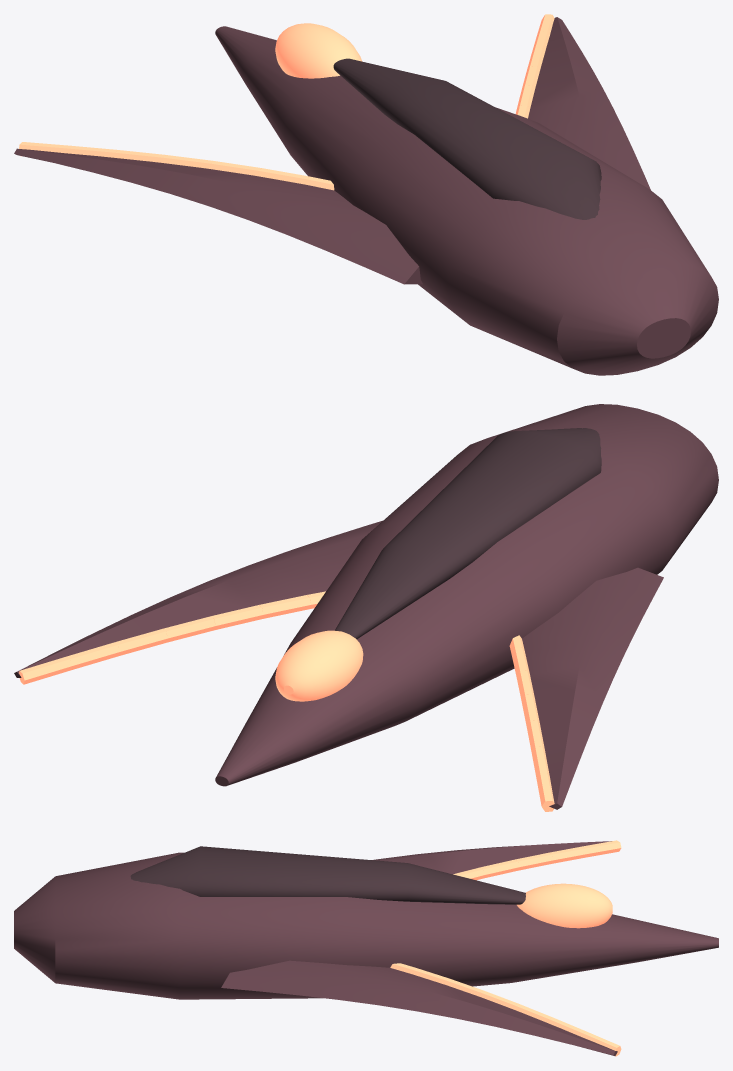
Rendered from alien_dron.gltf.
The picture shows the model from 3 angles, top to bottom: view 1: azimuth 30°, elevation 25°; view 2: azimuth 150°, elevation 25°; view 3: azimuth 270°, elevation 25°; orthographic projection. The views are drawn at different scales.
Parts seen in each view (by area): view 1: alien_dron_cuerpo, alien_dron_cuerpo_placa, alien_dron_cuchilla_babor, alien_dron_cuchilla_estribor, alien_dron_ojo, alien_dron_filo_babor, alien_dron_filo_estribor; view 2: alien_dron_cuerpo, alien_dron_cuerpo_placa, alien_dron_cuchilla_babor, alien_dron_cuchilla_estribor, alien_dron_ojo, alien_dron_filo_estribor, alien_dron_filo_babor; view 3: alien_dron_cuerpo, alien_dron_cuerpo_placa, alien_dron_cuchilla_estribor, alien_dron_ojo, alien_dron_cuchilla_babor, alien_dron_filo_babor, alien_dron_filo_estribor.
Boxes of the visible parts, box(x1,y1,x2,y2) form: alien_dron_cuerpo: box(215, 26, 718, 375); alien_dron_cuerpo_placa: box(333, 58, 601, 219); alien_dron_cuchilla_babor: box(14, 148, 422, 284); alien_dron_cuchilla_estribor: box(528, 17, 650, 189); alien_dron_ojo: box(275, 23, 362, 78); alien_dron_filo_babor: box(19, 142, 334, 190); alien_dron_filo_estribor: box(515, 14, 554, 118); alien_dron_cuerpo: box(215, 404, 718, 786); alien_dron_cuerpo_placa: box(335, 428, 601, 639); alien_dron_cuchilla_babor: box(522, 567, 663, 809); alien_dron_cuchilla_estribor: box(14, 520, 382, 677); alien_dron_ojo: box(275, 630, 363, 701); alien_dron_filo_estribor: box(19, 591, 325, 684); alien_dron_filo_babor: box(509, 635, 554, 811); alien_dron_cuerpo: box(14, 852, 718, 999); alien_dron_cuerpo_placa: box(130, 846, 525, 904); alien_dron_cuchilla_estribor: box(221, 960, 617, 1055); alien_dron_ojo: box(517, 883, 612, 928); alien_dron_cuchilla_babor: box(372, 841, 611, 874); alien_dron_filo_babor: box(453, 840, 621, 880); alien_dron_filo_estribor: box(390, 963, 621, 1056).
Size of the model in its own units: 24.35 by 6.7 by 34.
